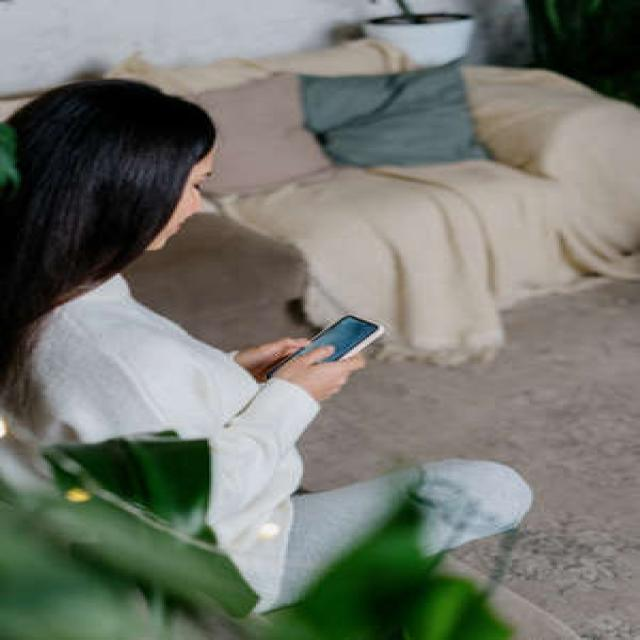smartphone-person: (0, 61, 555, 640)
